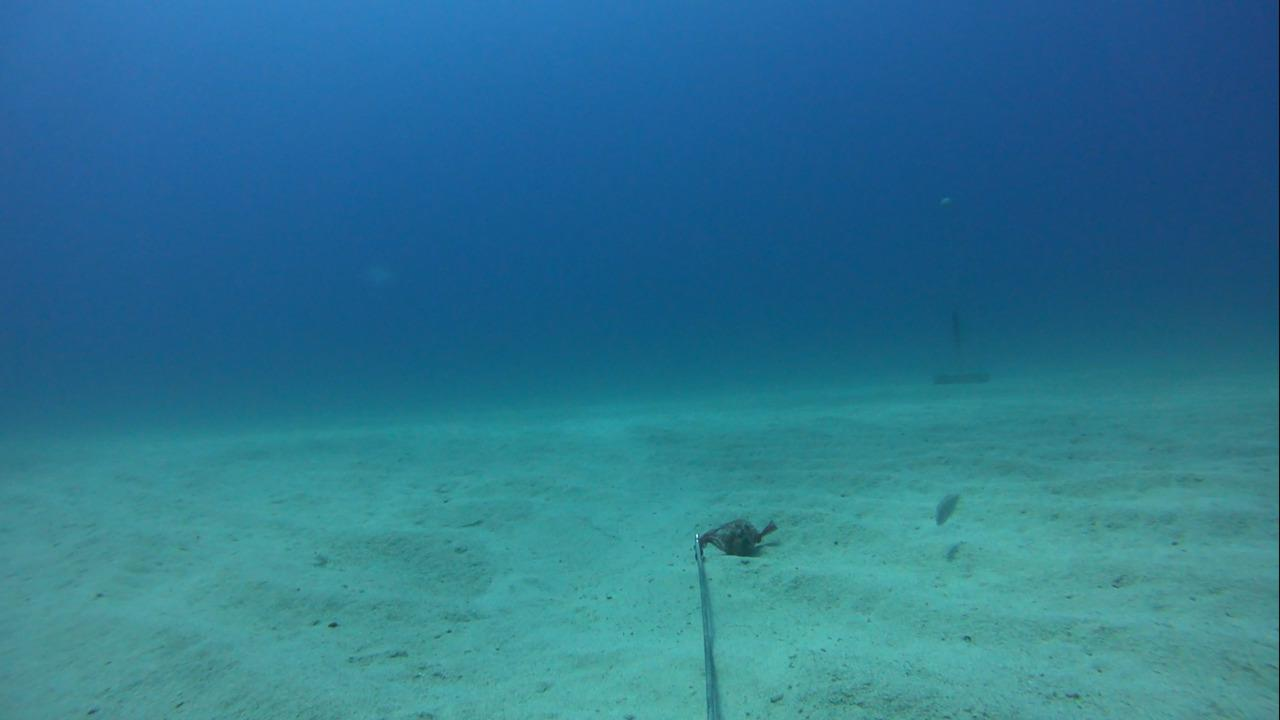raor: (919, 484, 967, 529)
